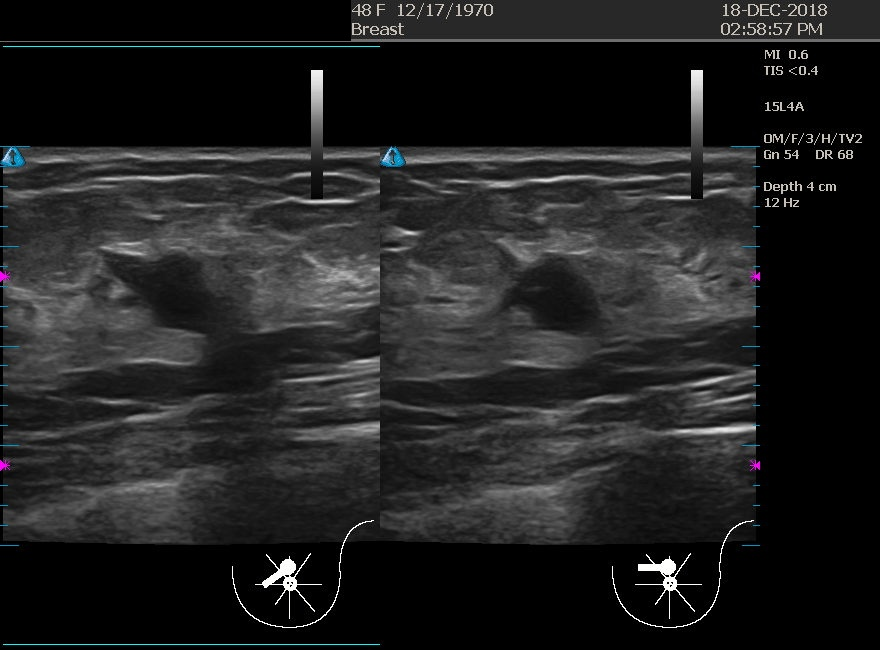BIRADS_4: (70, 197, 262, 389), (462, 198, 654, 390)
